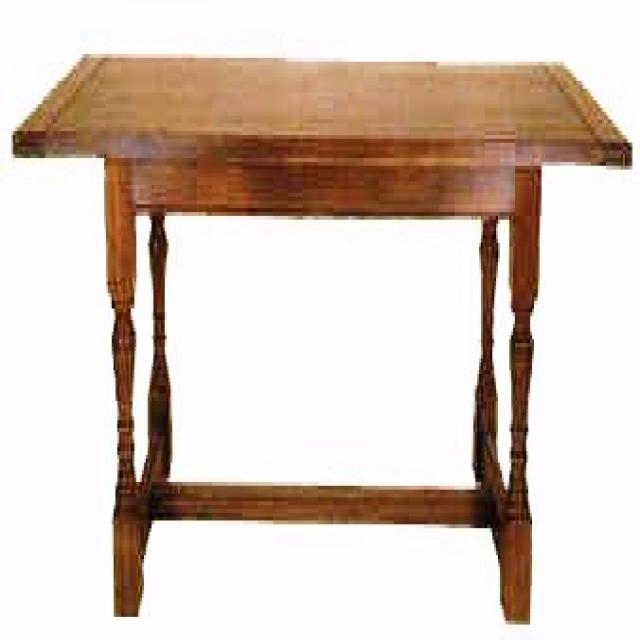table: (11, 47, 634, 629)
